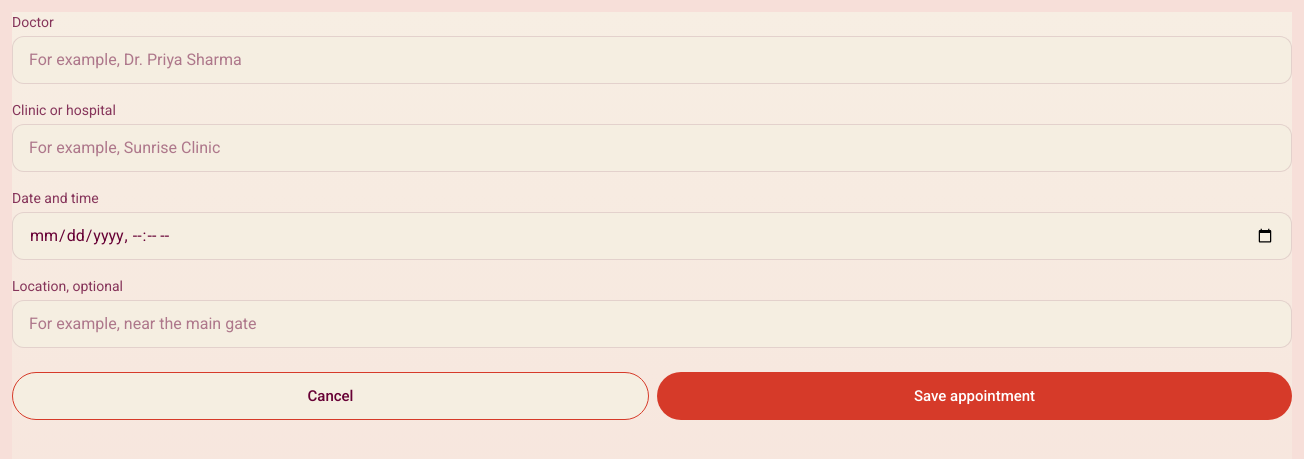
Test case: AppointmentForm › shows a specific error when no date is chosen
Step 1. Click the button "Save appointment" → (974, 396), box [657,372,1292,420]
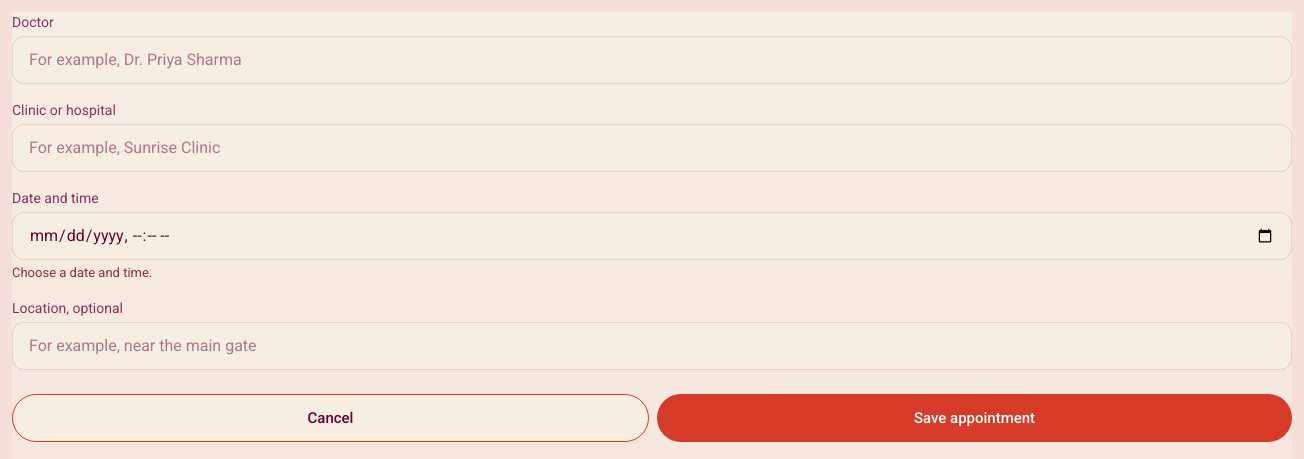
Expected: the text "Choose a date and time." is shown, [12,265,152,280]
